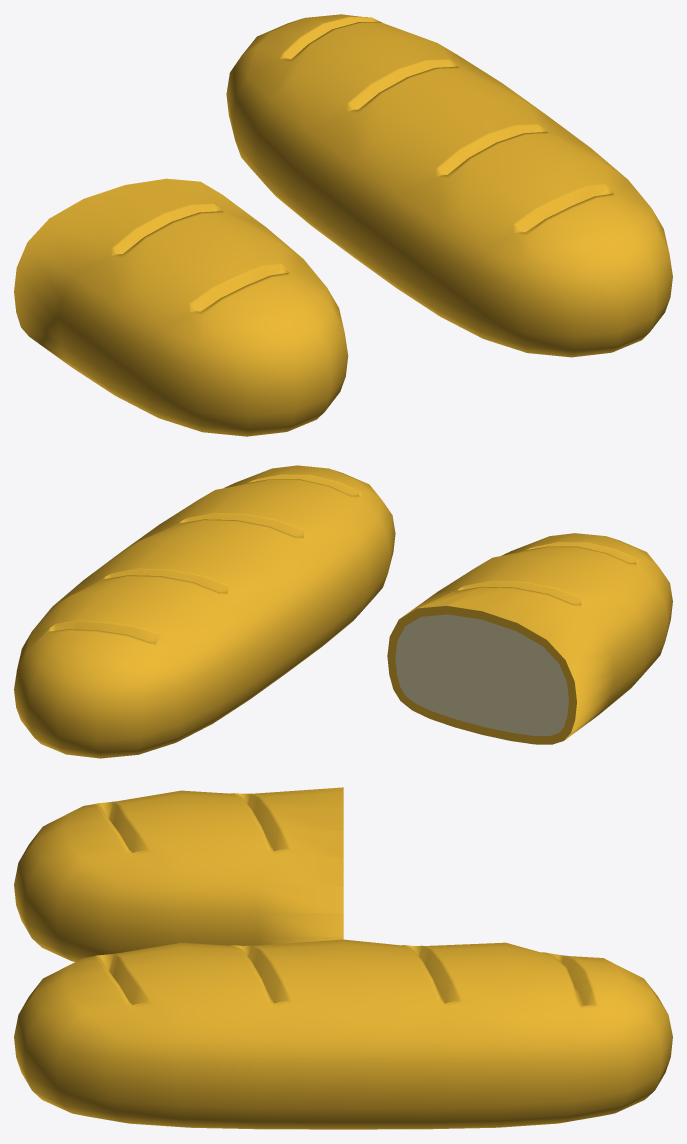
Rendered from baguettes.fbx.
3 renders of one model, top to bottom at view 1: azimuth 30°, elevation 25°; view 2: azimuth 150°, elevation 25°; view 3: azimuth 270°, elevation 25°, orthographic. The views are drawn at different scales.
Visible parts, largest first — view 1: baguette, half_baguette; view 2: baguette, half_baguette; view 3: baguette, half_baguette.
Boxes of the visible parts, x1,y1,x2,y2 form: baguette: (226,14,672,357); half_baguette: (14,178,348,436); baguette: (14,465,395,758); half_baguette: (387,533,672,744); baguette: (14,939,672,1129); half_baguette: (14,787,343,961).
Bounding box in the file's own units: 758 × 192 × 824.
